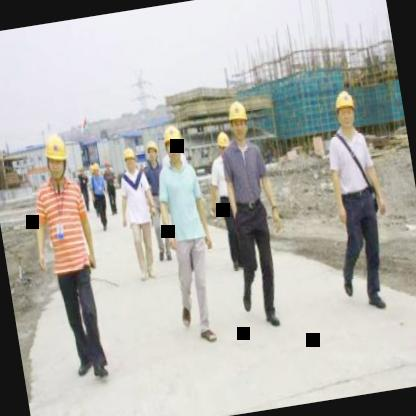helmet: (40, 128, 72, 182), (223, 94, 252, 146), (328, 84, 360, 131), (158, 118, 188, 168), (211, 125, 232, 164), (120, 140, 142, 175), (143, 136, 162, 167)
